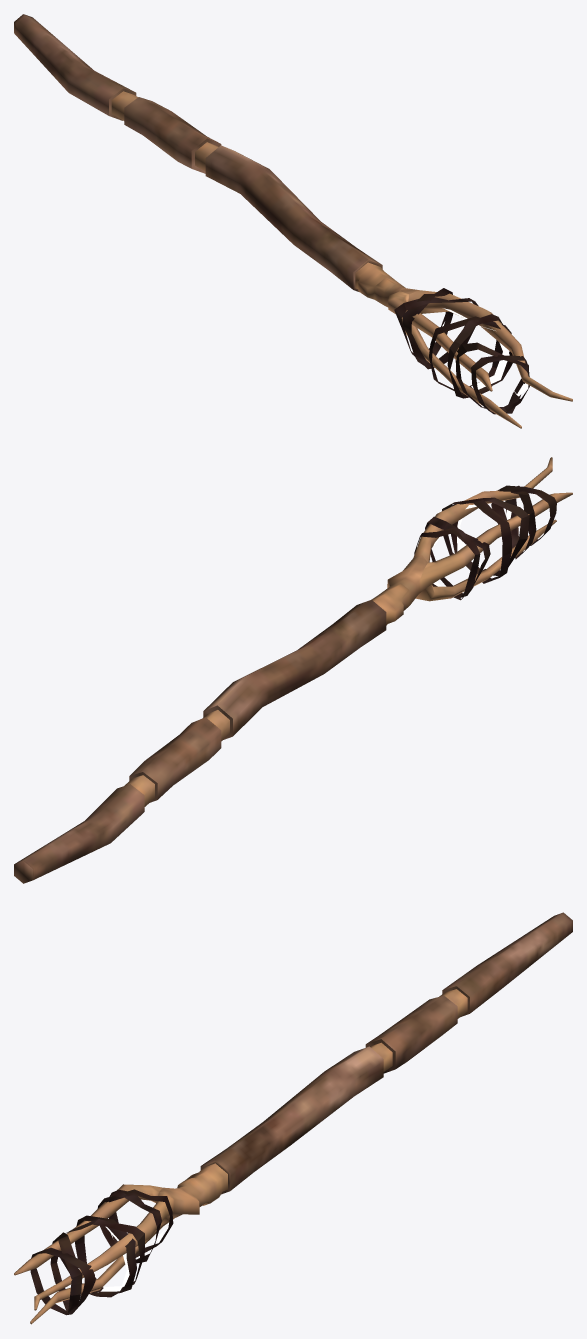
The model's file is StaffBase02.fbx.
3 renders of one model, top to bottom at view 1: azimuth 30°, elevation 25°; view 2: azimuth 150°, elevation 25°; view 3: azimuth 330°, elevation 25°, orthographic.
Parts seen in each view (by area): view 1: attach; view 2: attach; view 3: attach.
Part boxes in pixels (x1,y1,x2,y2): attach: [14, 14, 572, 428]; attach: [14, 457, 572, 883]; attach: [14, 912, 572, 1324].
Bounding box in the file's own units: 15.41 × 15.65 × 203.
